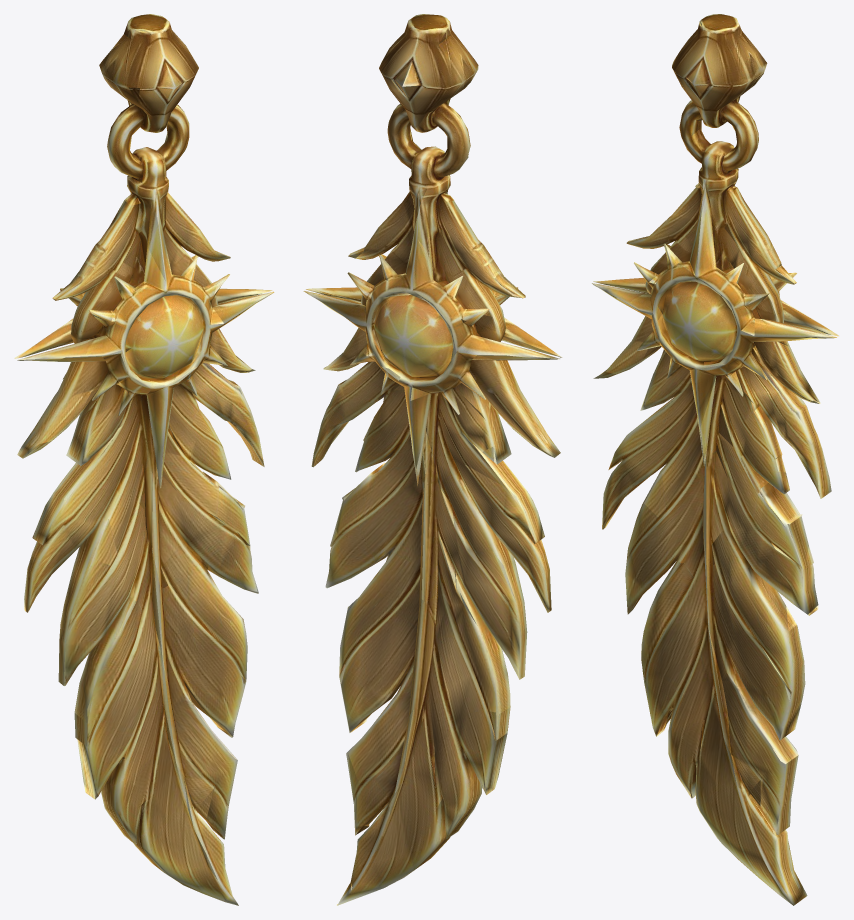
Rendered from set-radiance-charm.glb.
The picture shows the model from 3 angles, left to right: view 1: azimuth 30°, elevation 25°; view 2: azimuth 150°, elevation 25°; view 3: azimuth 330°, elevation 25°; orthographic projection. The views are drawn at different scales.
Parts seen in each view (by area): view 1: Motion_Control; view 2: Motion_Control; view 3: Motion_Control.
Boxes of the visible parts, box(x1,y1,x2,y2) form: Motion_Control: box(14, 14, 274, 905); Motion_Control: box(303, 14, 562, 905); Motion_Control: box(592, 14, 838, 905).
Size of the model in its own units: 0.5978 by 2 by 0.2261.
Materials: 1 (1 with a texture image).
